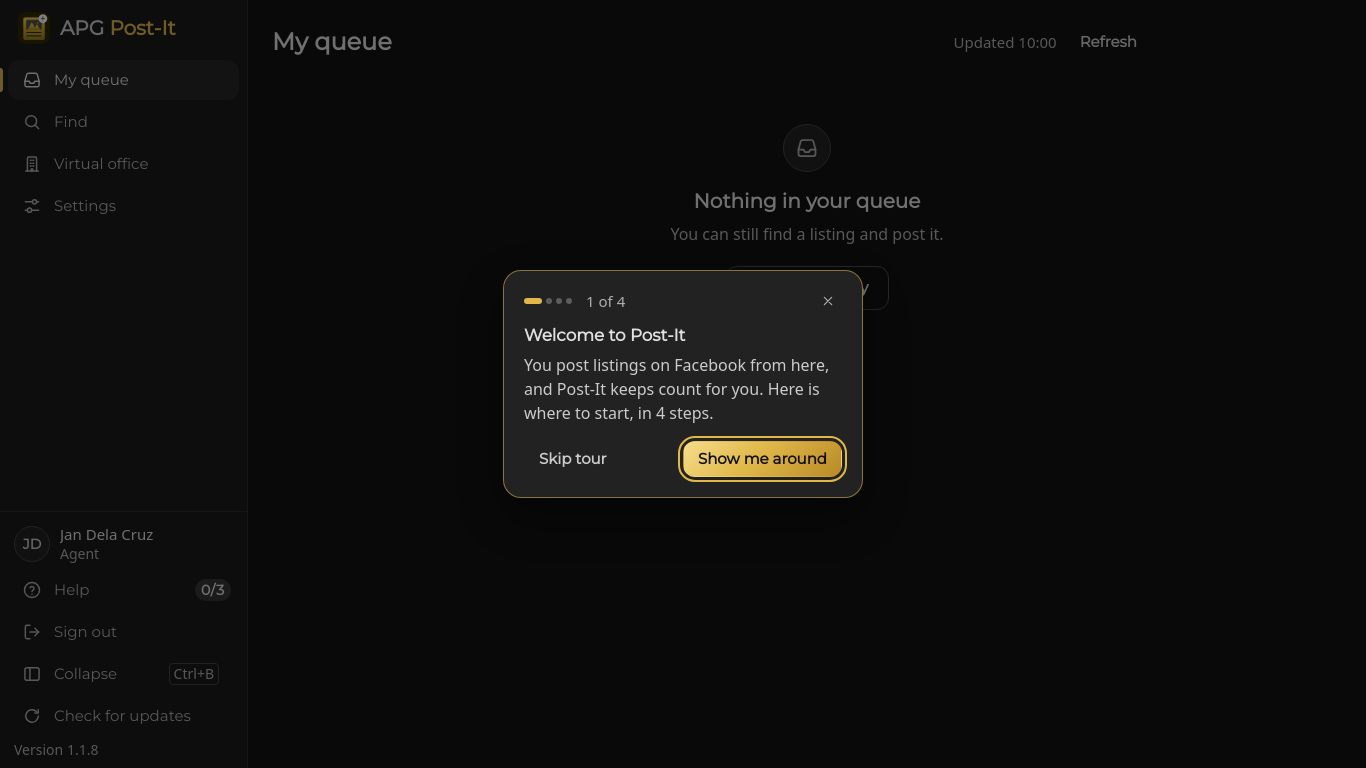
the welcome tour › Skip closes it for good: no tour starts by itself again
Click the button "Skip tour" at (573, 459), box [524,441,622,477]
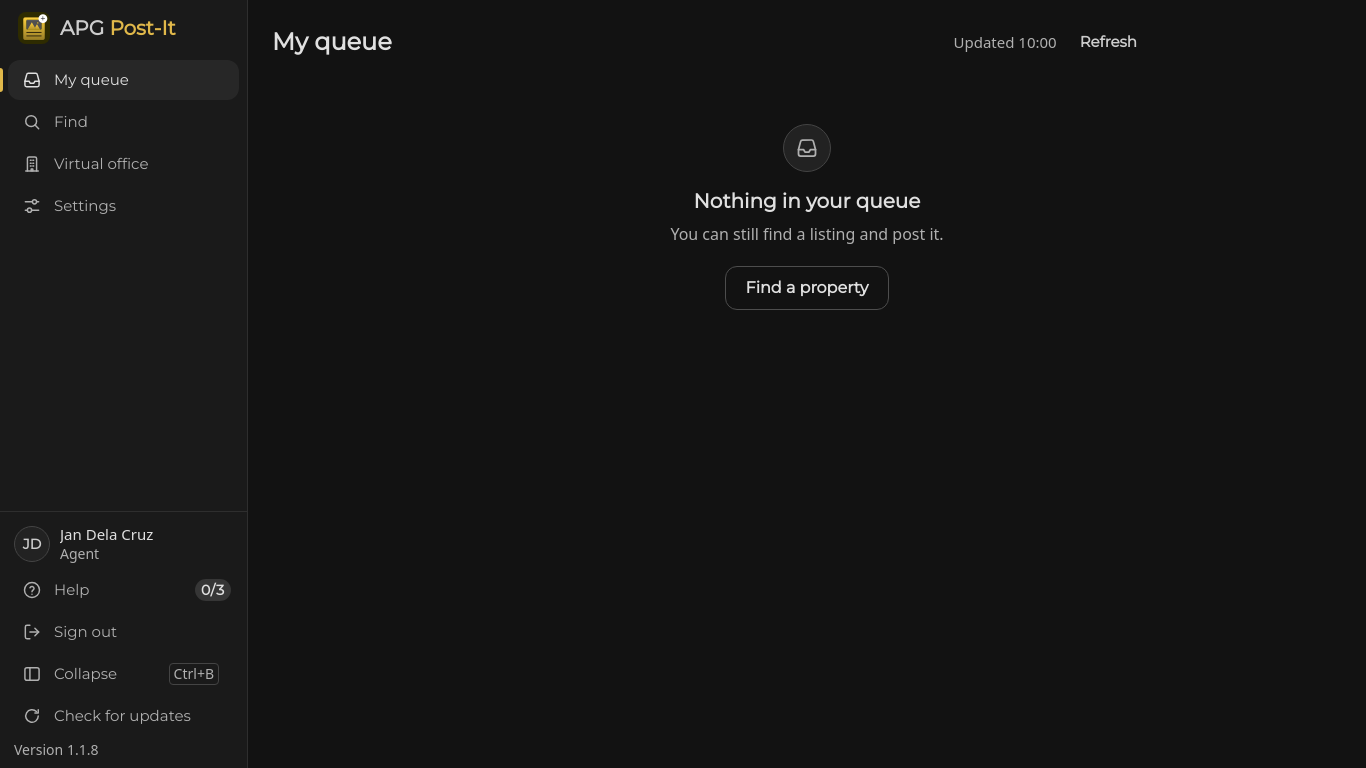
Now the heading "Welcome to Post-It" is gone
